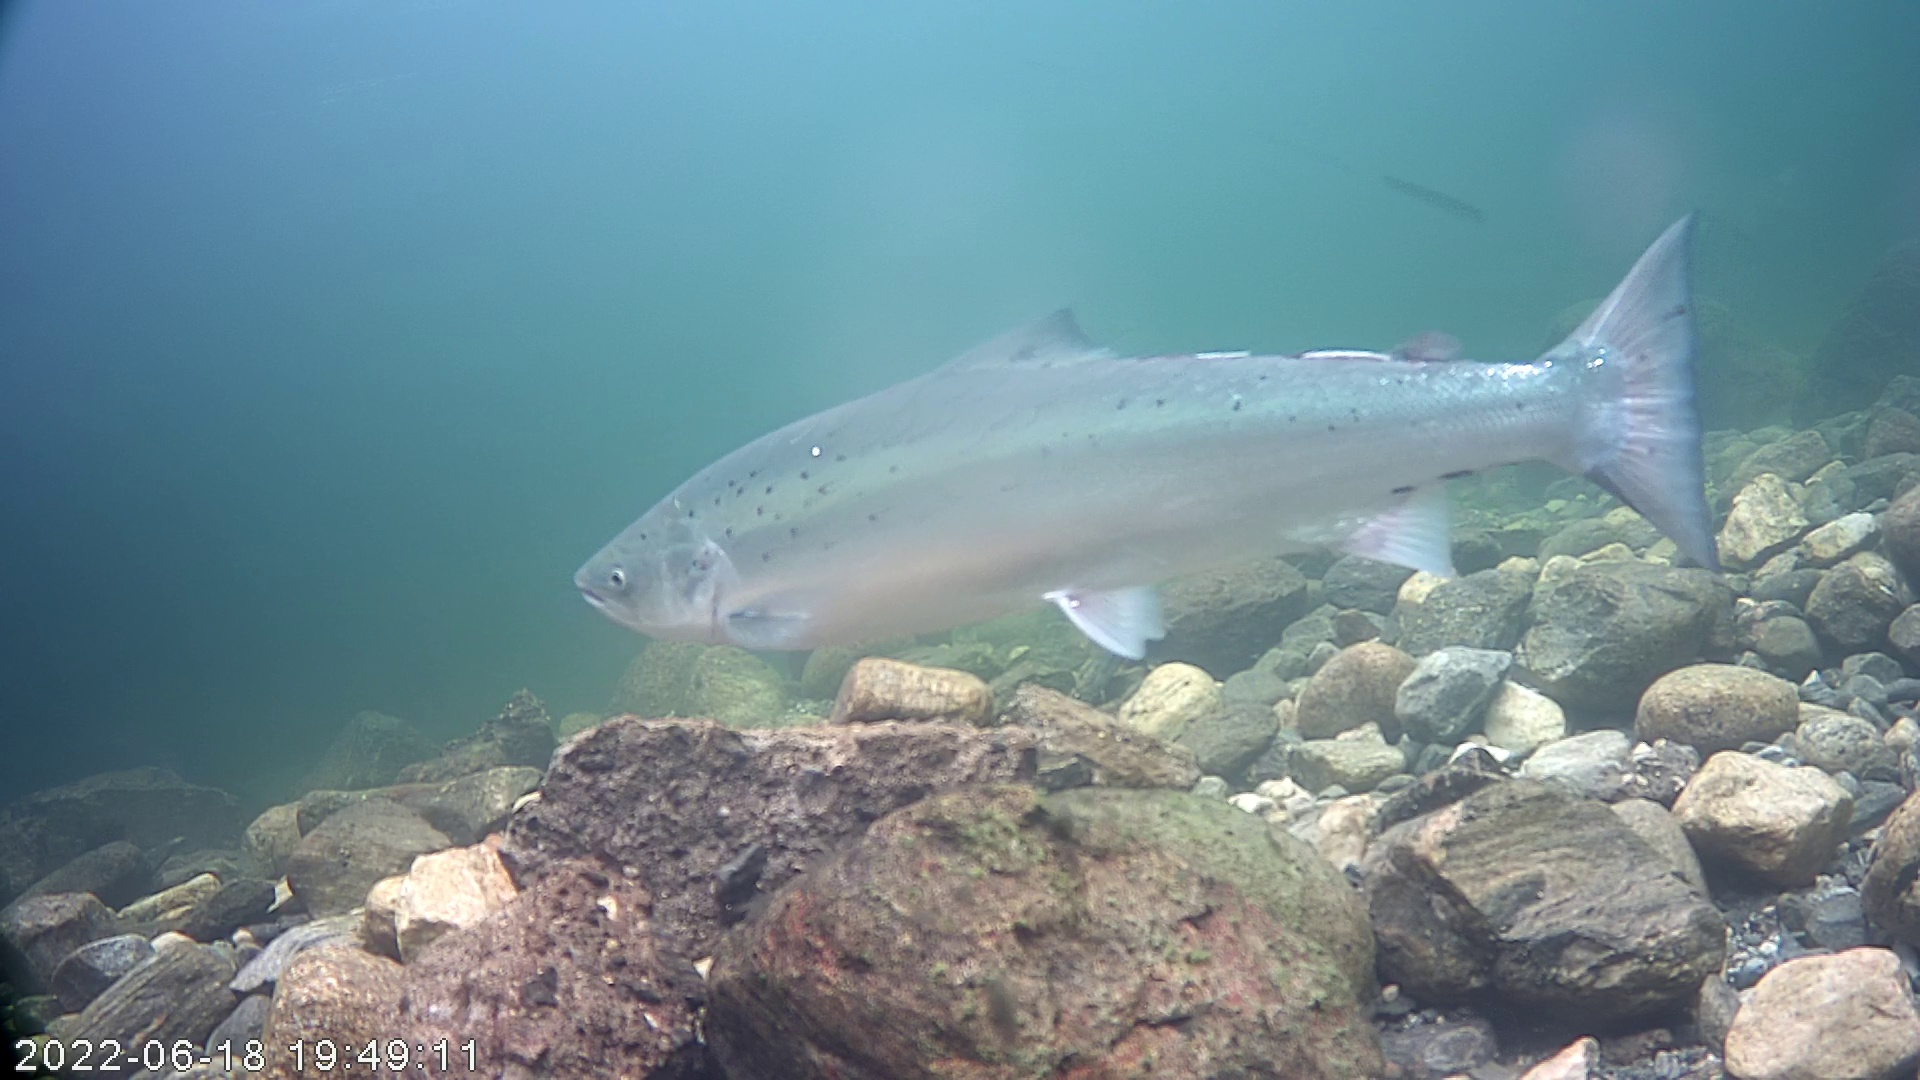salmon: (571, 207, 1727, 659)
